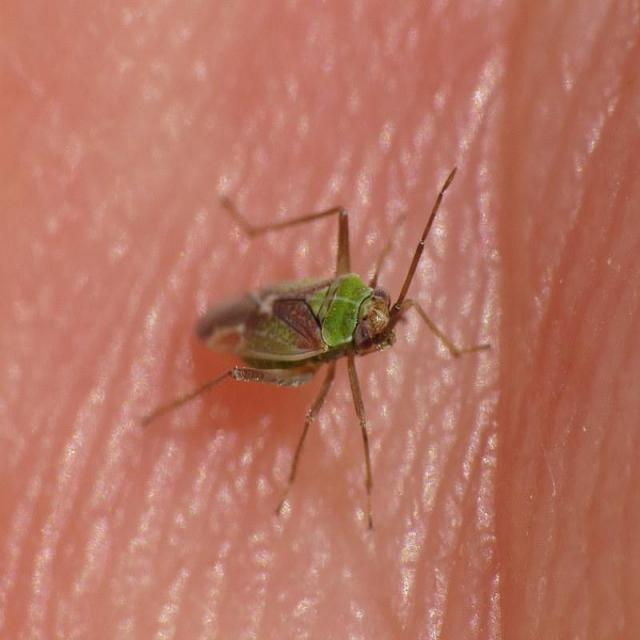Miridae-Adult-: (134, 158, 503, 531)
